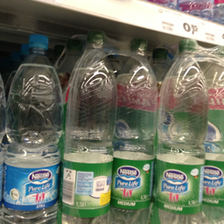water: (4, 34, 65, 223), (154, 39, 210, 224), (63, 29, 116, 224), (114, 36, 160, 224)
